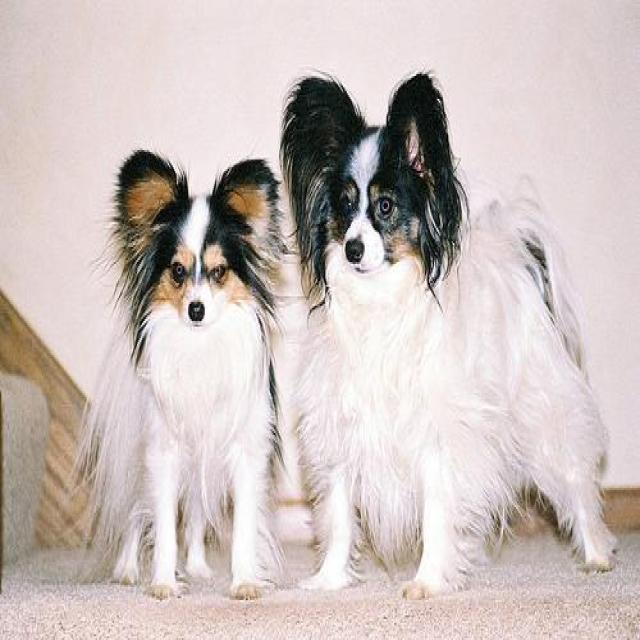papillon: (283, 70, 619, 604), (81, 150, 279, 602)
